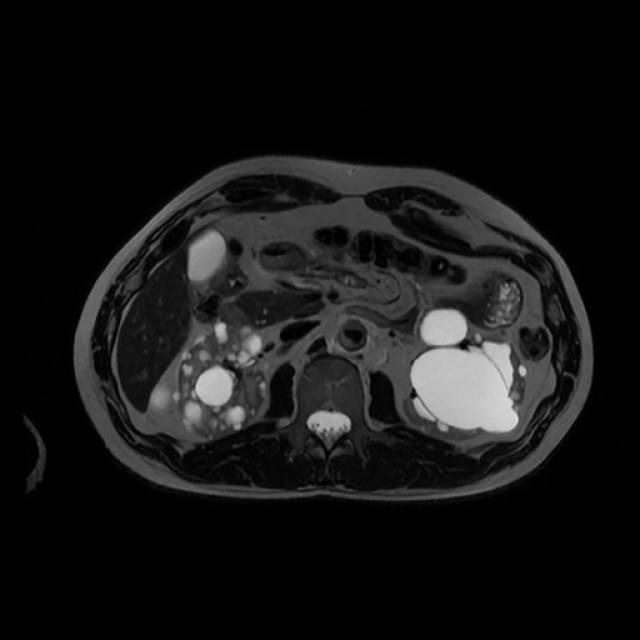sag: (153, 324, 268, 439)
sol: (407, 308, 527, 440)
